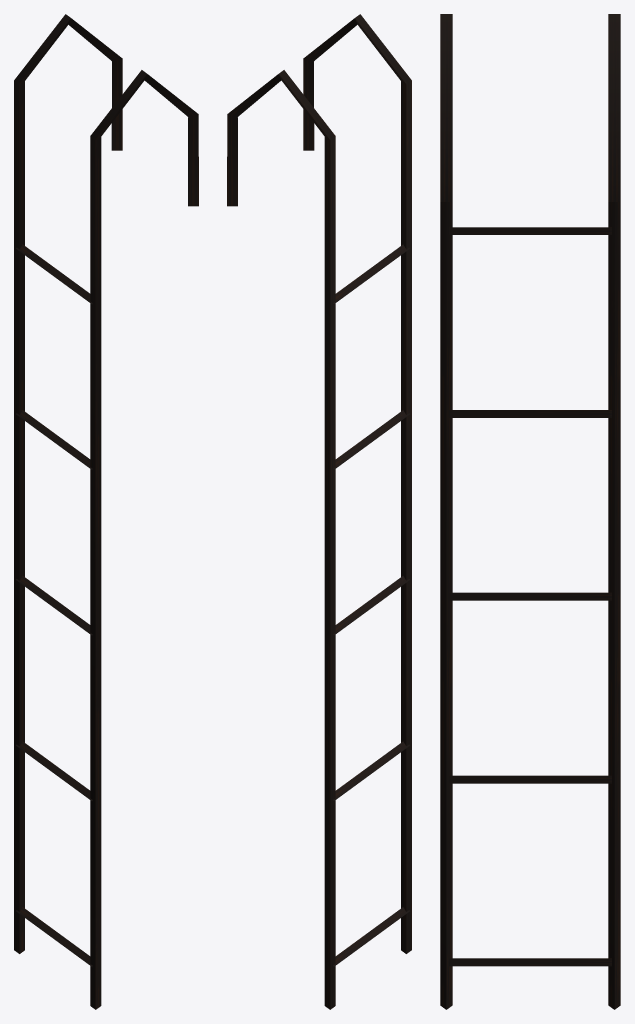
File: SM_Banchina_Scaletta_v2_LOD2.fbx
3 views of the same model, side by side, from view 1: azimuth 30°, elevation 25°; view 2: azimuth 150°, elevation 25°; view 3: azimuth 270°, elevation 25° (orthographic). The views are drawn at different scales.
Visible parts, largest first — view 1: SM_Banchina_Scaletta_v2_LOD2; view 2: SM_Banchina_Scaletta_v2_LOD2; view 3: SM_Banchina_Scaletta_v2_LOD2.
Boxes of the visible parts, bbox=[...] form: SM_Banchina_Scaletta_v2_LOD2: bbox=[14, 14, 198, 1009]; SM_Banchina_Scaletta_v2_LOD2: bbox=[227, 14, 411, 1009]; SM_Banchina_Scaletta_v2_LOD2: bbox=[440, 14, 620, 1009].
Bounding box in the file's own units: 39.55 × 53.64 × 335.
Materials: 1 (1 with a texture image).
